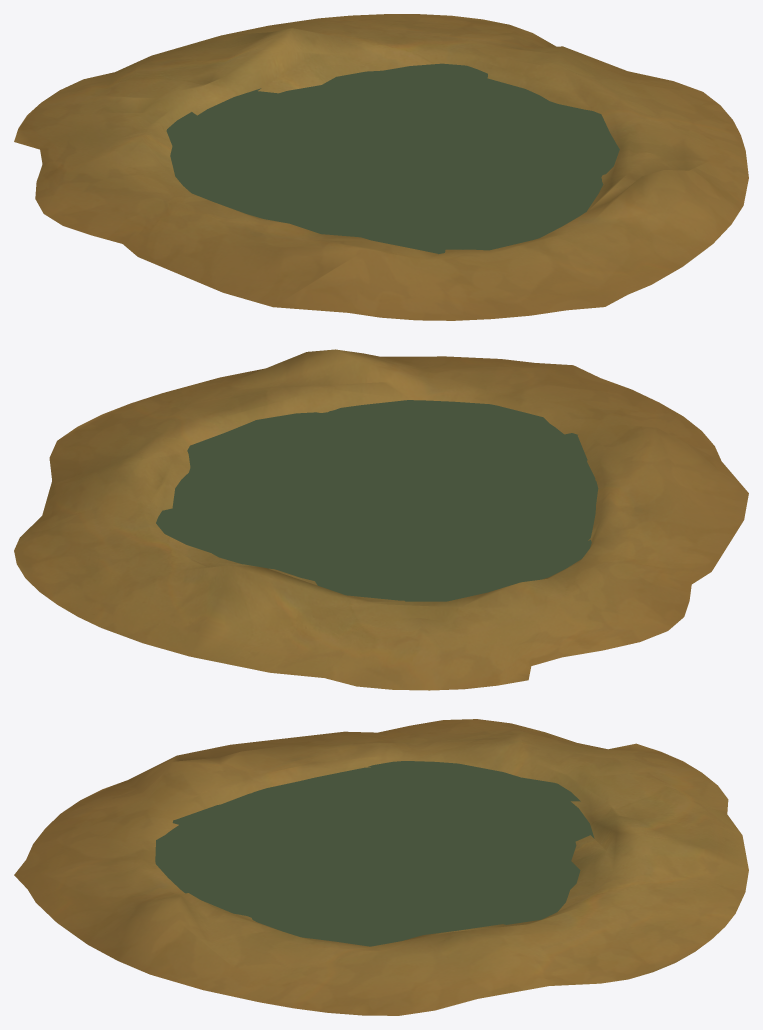
Rendered from PuddleLarge.fbx.
3 renders of one model, top to bottom at view 1: azimuth 30°, elevation 25°; view 2: azimuth 150°, elevation 25°; view 3: azimuth 270°, elevation 25°, orthographic. The views are drawn at different scales.
Visible parts, largest first — view 1: Circle.002; view 2: Circle.002; view 3: Circle.002.
Boxes of the visible parts, x1,y1,x2,y2 form: Circle.002: [14, 14, 748, 320]; Circle.002: [14, 349, 748, 690]; Circle.002: [14, 719, 748, 1015].
Size of the model in its own units: 3.62 by 0.2719 by 3.79.
2 materials, 1 textured.
